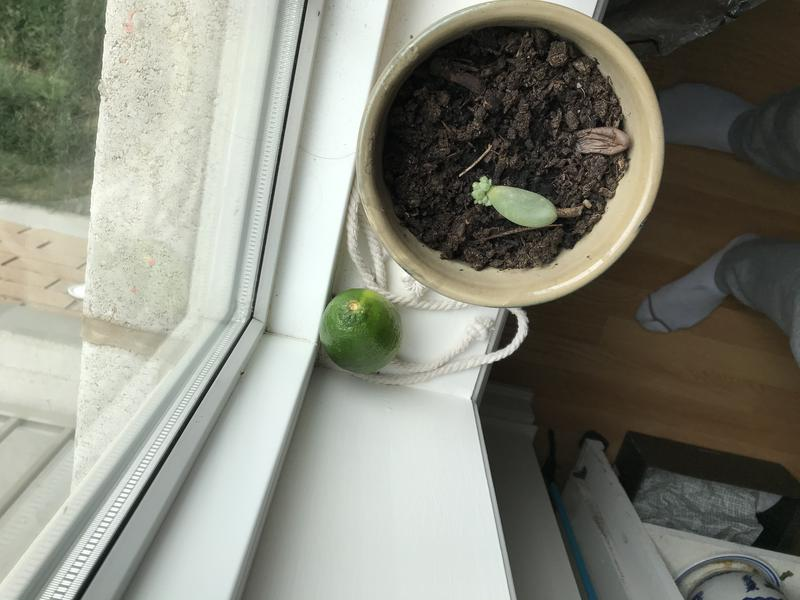lime: (311, 285, 412, 382)
